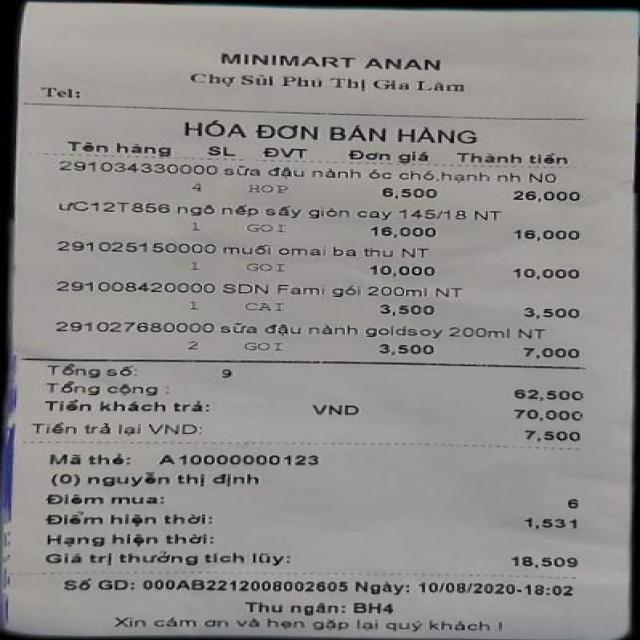Date: (417, 577, 516, 600)
Store_Name: (186, 43, 463, 76)
Total_Amount: (28, 377, 608, 403)
